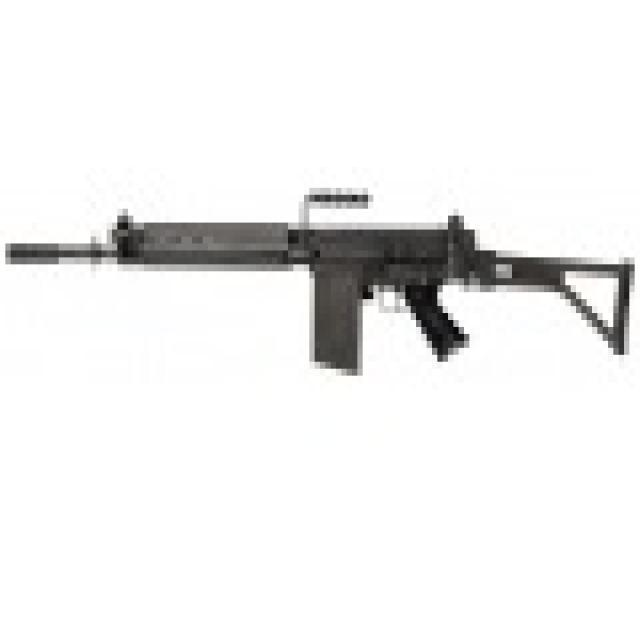Gun: (0, 152, 640, 414)
